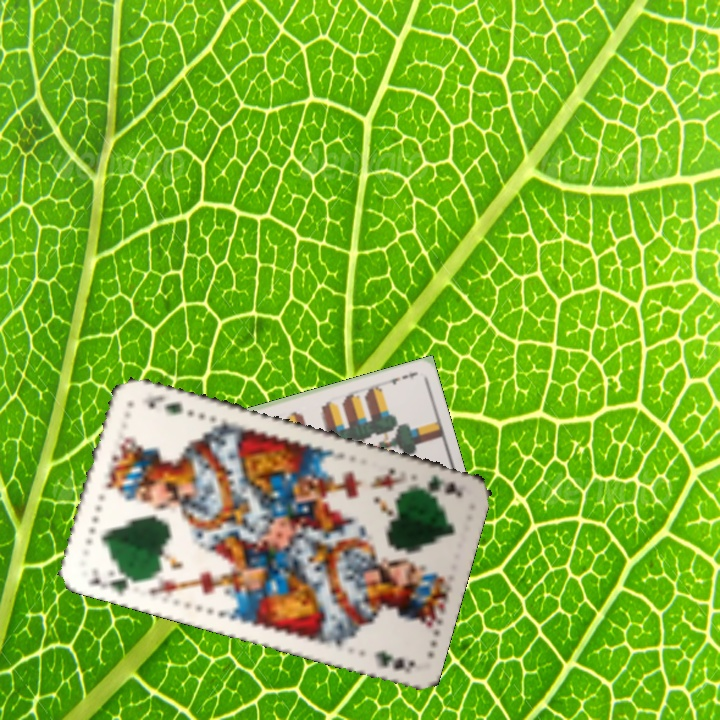E7: (381, 368, 420, 388)
GK: (83, 568, 139, 598), (423, 471, 464, 500)
